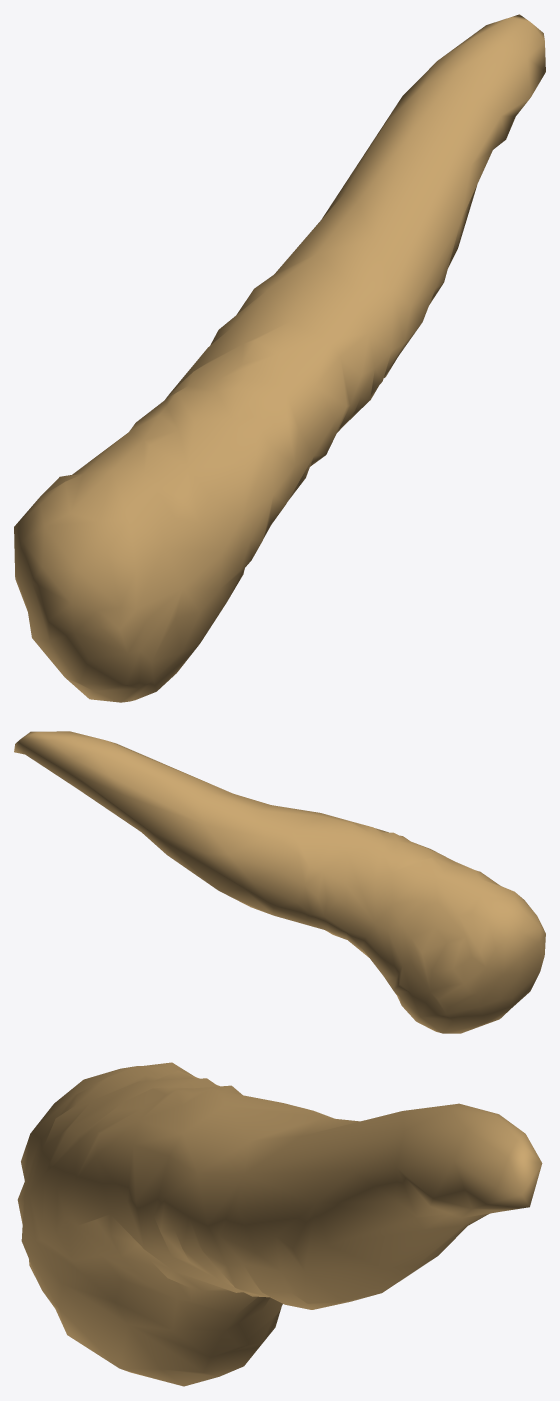
Rendered from pancreas.glb.
The picture shows the model from 3 angles, top to bottom: view 1: azimuth 30°, elevation 25°; view 2: azimuth 150°, elevation 25°; view 3: azimuth 270°, elevation 25°; orthographic projection. The views are drawn at different scales.
Visible parts, largest first — view 1: Pancreas; view 2: Pancreas; view 3: Pancreas.
Part boxes in pixels (left/top/right/bottom): Pancreas: left=14, top=14, right=545, bottom=702; Pancreas: left=14, top=731, right=545, bottom=1033; Pancreas: left=17, top=1062, right=542, bottom=1386.
Size of the model in its own units: 1.44e-08 by 9.04e-09 by 7.71e-09.
